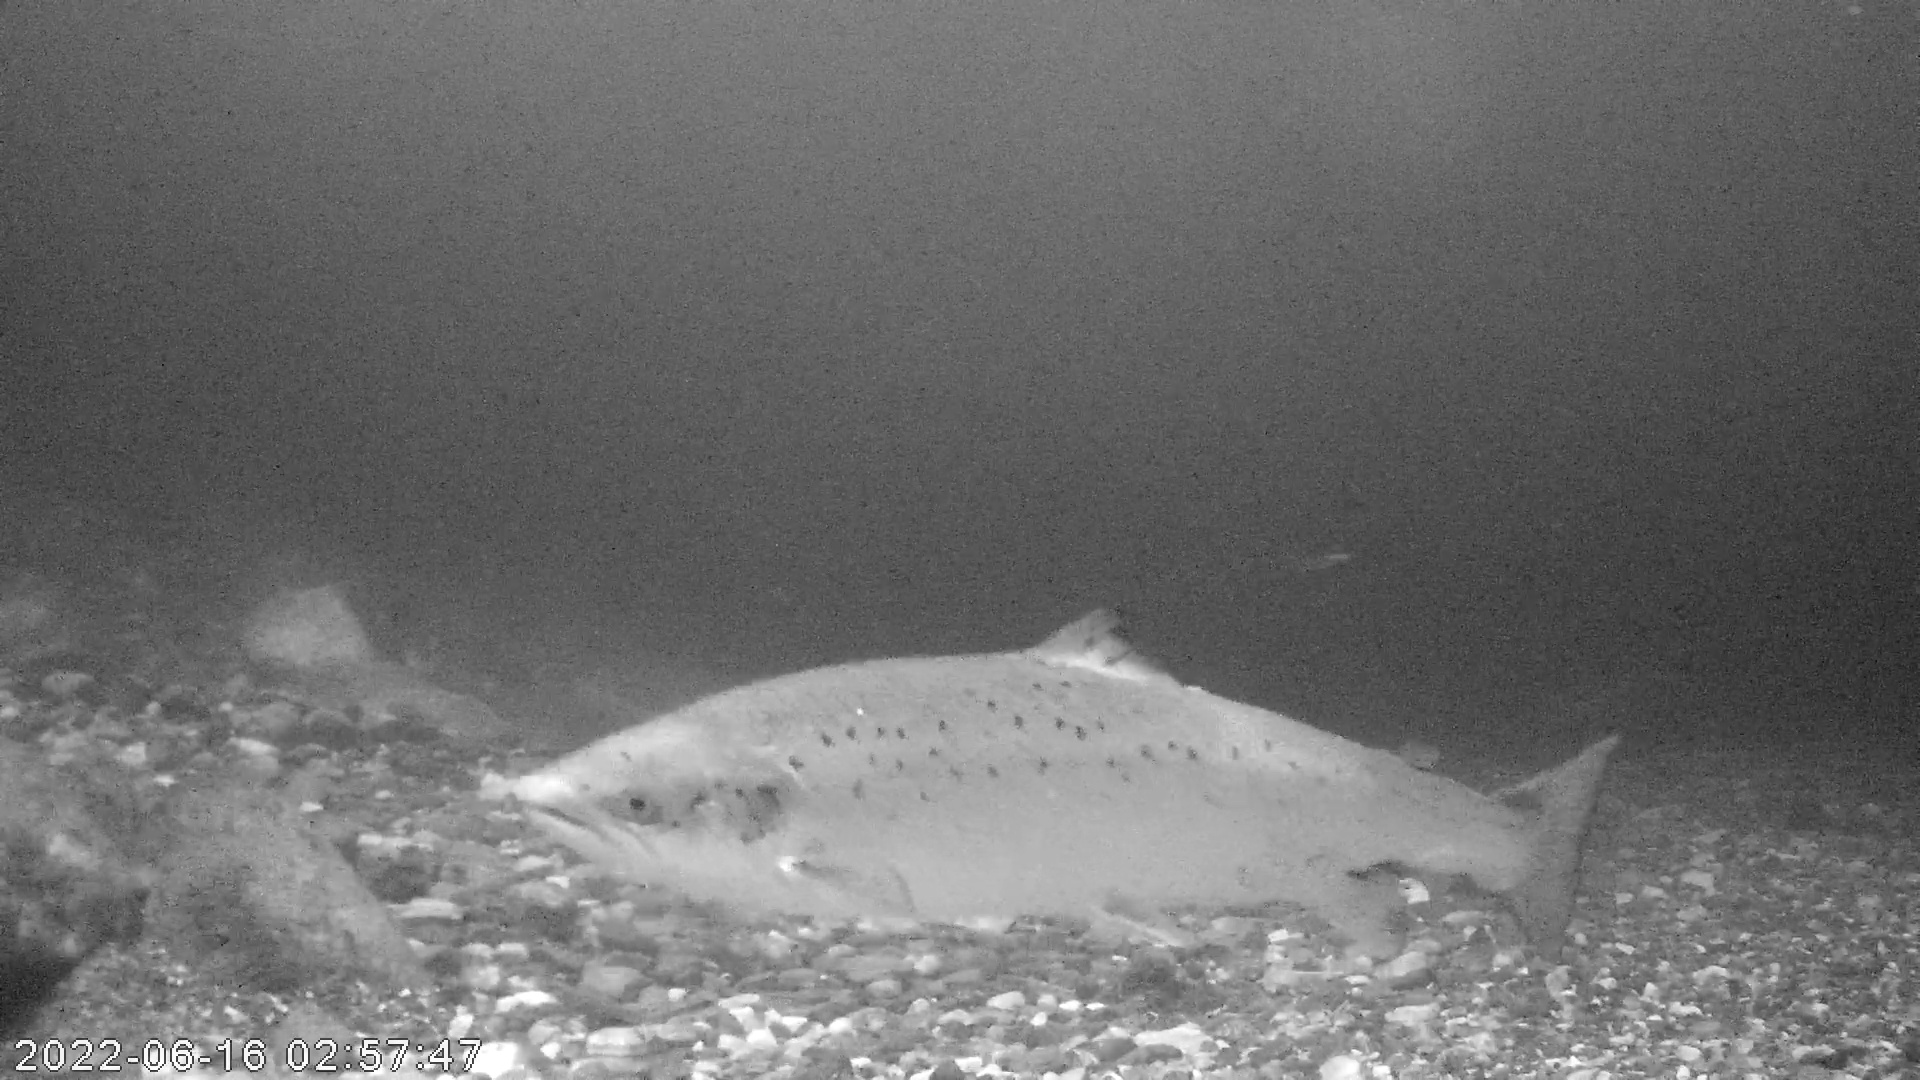salmon: (508, 603, 1625, 971)
